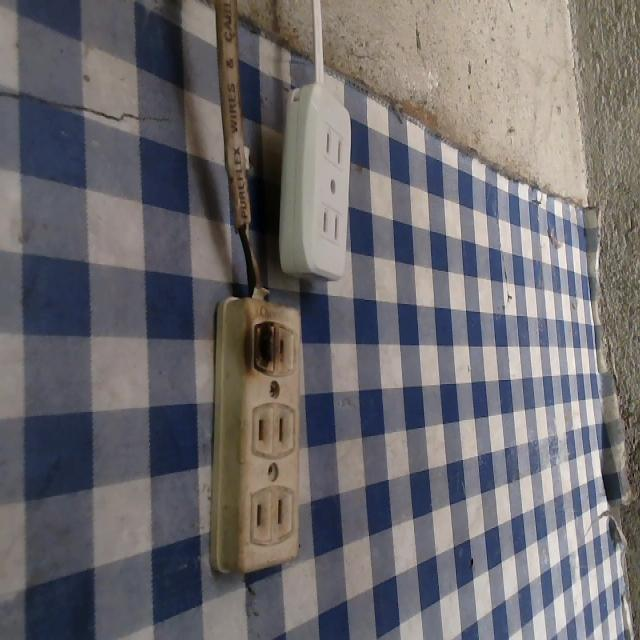-: (246, 319, 280, 373)
